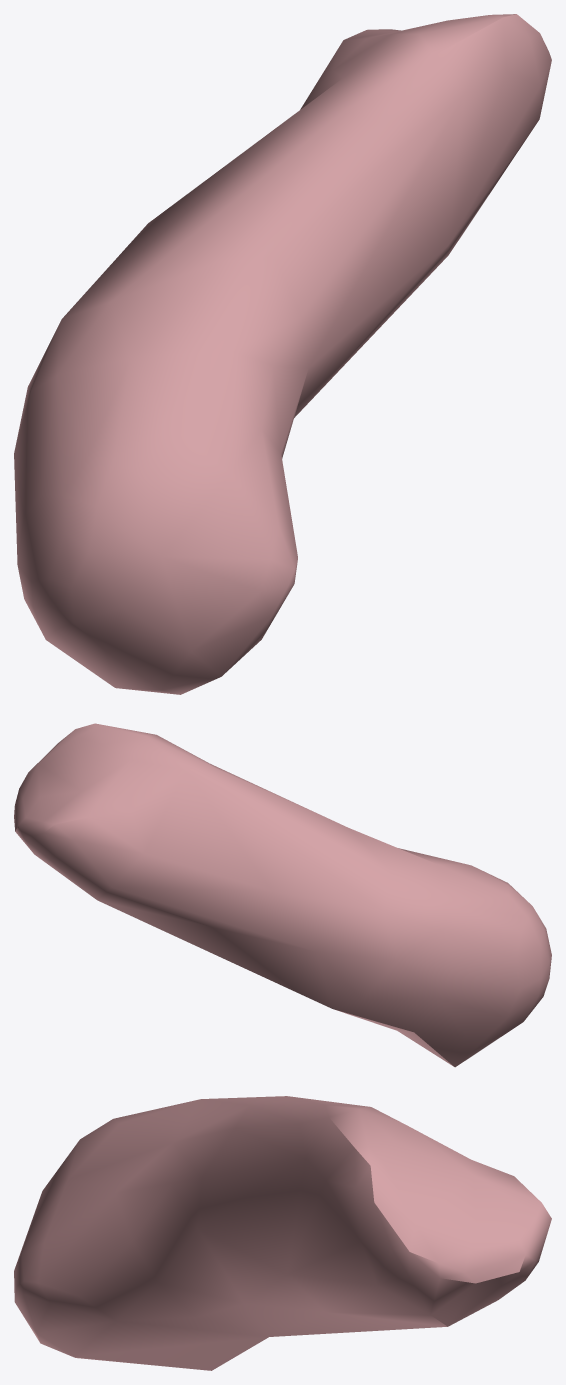
Rendered from fma16981_fj2617.glb.
The picture shows the model from 3 angles, top to bottom: view 1: azimuth 30°, elevation 25°; view 2: azimuth 150°, elevation 25°; view 3: azimuth 270°, elevation 25°; orthographic projection. The views are drawn at different scales.
Parts seen in each view (by area): view 1: FMA16981_FJ2617; view 2: FMA16981_FJ2617; view 3: FMA16981_FJ2617.
Boxes of the visible parts, box(x1,y1,x2,y2) form: FMA16981_FJ2617: box(14, 14, 551, 694); FMA16981_FJ2617: box(14, 723, 551, 1067); FMA16981_FJ2617: box(14, 1096, 551, 1370).
Size of the model in its own units: 0.0417 by 0.0287 by 0.0313.
